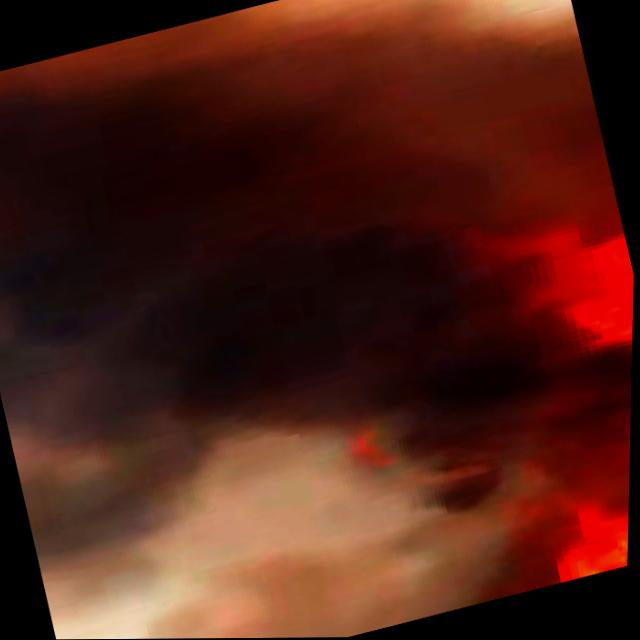fire: (535, 232, 636, 504), (552, 474, 632, 581)
smoke: (0, 0, 398, 585)
